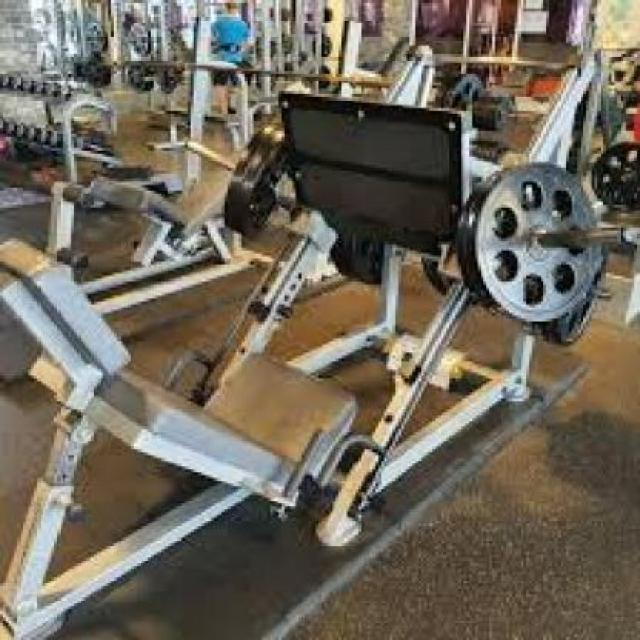leg press: (12, 51, 638, 640)
